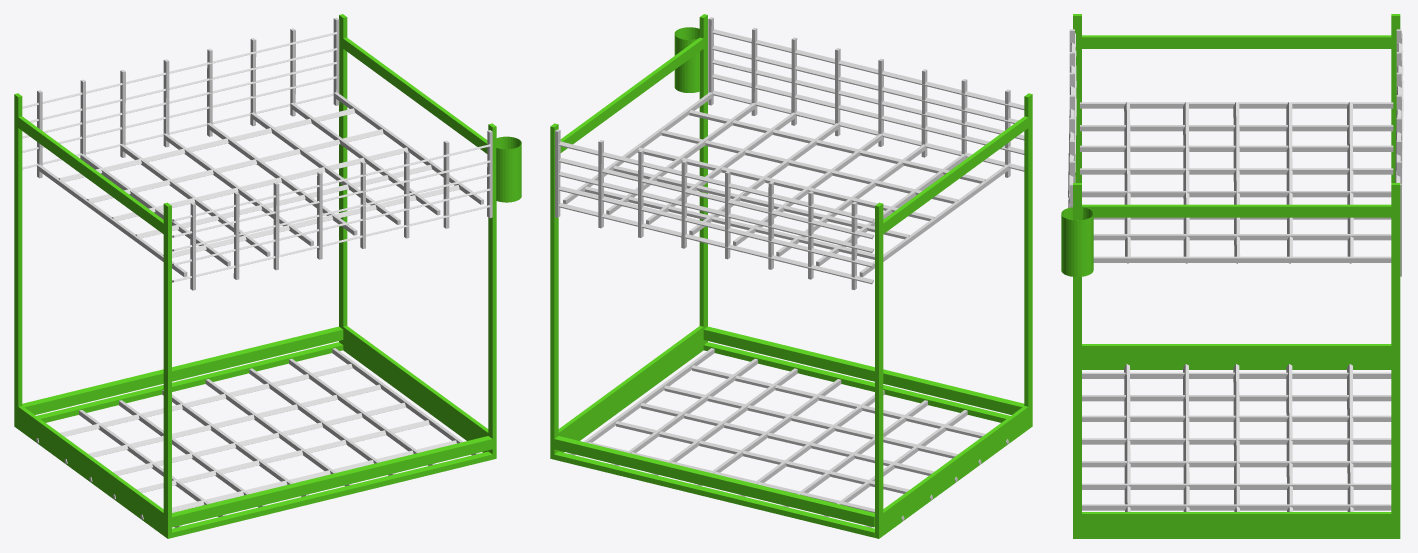
Rendered from Rak Piring.fbx.
3 views of the same model, side by side, from view 1: azimuth 30°, elevation 25°; view 2: azimuth 150°, elevation 25°; view 3: azimuth 270°, elevation 25° (orthographic). The views are drawn at different scales.
Parts seen in each view (by area): view 1: Cube, Cube.003, Cube.001, Cube.002, Cylinder, Cube.014, Cube.012, Cube.015, Cube.013, Cube.019, Cube.020, Cube.021 (+28 smaller); view 2: Cube, Cube.003, Cube.001, Cube.002, Cube.015, Cube.014, Cube.016, Cube.012, Cube.018, Cube.017, Cube.039, Cube.038 (+28 smaller); view 3: Cube, Cube.001, Cube.003, Cylinder, Cube.008, Cube.024, Cube.010, Cube.027, Cube.026, Cube.011, Cube.006, Cube.022 (+20 smaller).
Part boxes in pixels (<box>): Cube: <box>172,37,496,537</box>; Cube.003: <box>22,14,347,422</box>; Cube.001: <box>16,116,171,538</box>; Cube.002: <box>14,93,22,428</box>; Cylinder: <box>496,136,521,202</box>; Cube.014: <box>64,384,380,463</box>; Cube.012: <box>89,402,405,482</box>; Cube.015: <box>113,420,429,499</box>; Cube.013: <box>36,363,352,443</box>; Cube.019: <box>87,129,383,202</box>; Cube.020: <box>58,108,354,181</box>; Cube.021: <box>111,147,407,220</box>; Cube: <box>558,14,1024,452</box>; Cube.003: <box>550,123,874,537</box>; Cube.001: <box>881,93,1032,535</box>; Cube.002: <box>875,202,883,538</box>; Cube.015: <box>664,385,981,464</box>; Cube.014: <box>615,421,932,500</box>; Cube.016: <box>691,365,1008,444</box>; Cube.012: <box>640,403,957,482</box>; Cube.018: <box>661,130,958,203</box>; Cube.017: <box>689,110,985,183</box>; Cube.039: <box>558,203,873,284</box>; Cube.038: <box>559,171,874,252</box>; Cube: <box>1073,183,1394,538</box>; Cube.001: <box>1073,14,1395,369</box>; Cube.003: <box>1391,183,1400,538</box>; Cylinder: <box>1061,207,1093,276</box>; Cube.008: <box>1082,504,1391,510</box>; Cube.024: <box>1093,256,1391,262</box>; Cube.010: <box>1082,483,1391,489</box>; Cube.027: <box>1080,168,1393,174</box>; Cube.026: <box>1080,145,1393,151</box>; Cube.011: <box>1082,461,1391,467</box>; Cube.006: <box>1082,438,1391,444</box>; Cube.022: <box>1082,191,1391,197</box>.
Size of the model in its own units: 547 by 492 by 429.
